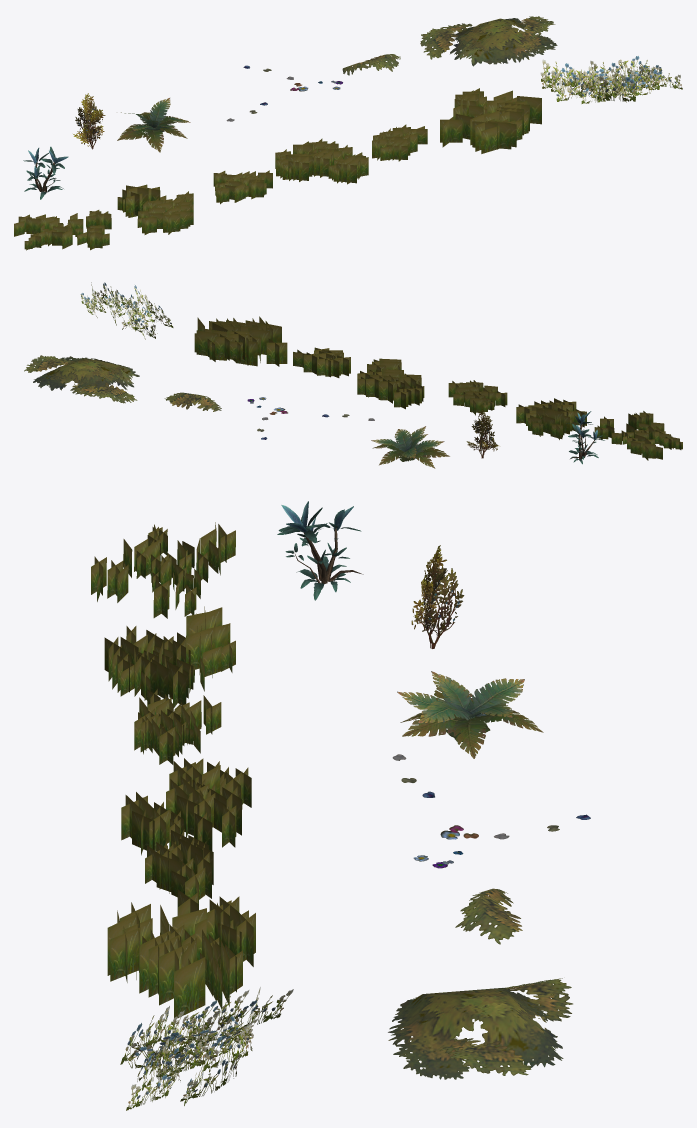
File: d_1156_flower02.FBX
3 renders of one model, top to bottom at view 1: azimuth 30°, elevation 25°; view 2: azimuth 150°, elevation 25°; view 3: azimuth 270°, elevation 25°, orthographic. The views are drawn at different scales.
Parts seen in each view (by area): view 1: YGCL_caocong_08, XJLD_zw_guanmu_010, d_111301_tree16, YGCL_caocong_05, YGCL_caocong_009, YGCL_caocong_01, SLXB_guanmu_002, YGCL_caocong_03, YGCL_caocong_07, YGCL_grass_007, MWCL_wj_guanmu_002, XJLD_zw_guanmu_009; view 2: YGCL_caocong_08, XJLD_zw_guanmu_010, YGCL_caocong_05, YGCL_caocong_009, YGCL_caocong_01, d_111301_tree16, SLXB_guanmu_002, YGCL_caocong_03, YGCL_caocong_07, YGCL_grass_007, MWCL_wj_guanmu_002, XJLD_zw_guanmu_009; view 3: XJLD_zw_guanmu_010, YGCL_caocong_08, YGCL_caocong_01, d_111301_tree16, YGCL_caocong_05, YGCL_caocong_009, SLXB_guanmu_002, YGCL_caocong_03, YGCL_caocong_07, MWCL_wj_guanmu_002, YGCL_grass_007, XJLD_zw_guanmu_009 (+1 smaller).
Part boxes in pixels (x1=…): YGCL_caocong_08: x1=440, y1=88, x2=541, y2=153; XJLD_zw_guanmu_010: x1=420, y1=16, x2=557, y2=66; d_111301_tree16: x1=540, y1=56, x2=682, y2=103; YGCL_caocong_05: x1=275, y1=138, x2=368, y2=184; YGCL_caocong_009: x1=14, y1=210, x2=111, y2=250; YGCL_caocong_01: x1=117, y1=184, x2=193, y2=234; SLXB_guanmu_002: x1=117, y1=98, x2=190, y2=152; YGCL_caocong_03: x1=213, y1=170, x2=272, y2=204; YGCL_caocong_07: x1=372, y1=124, x2=427, y2=161; YGCL_grass_007: x1=73, y1=93, x2=105, y2=149; MWCL_wj_guanmu_002: x1=23, y1=146, x2=68, y2=199; XJLD_zw_guanmu_009: x1=342, y1=54, x2=400, y2=75; YGCL_caocong_08: x1=194, y1=316, x2=287, y2=366; XJLD_zw_guanmu_010: x1=24, y1=355, x2=139, y2=403; YGCL_caocong_05: x1=357, y1=358, x2=424, y2=409; YGCL_caocong_009: x1=594, y1=411, x2=682, y2=460; YGCL_caocong_01: x1=516, y1=398, x2=586, y2=439; d_111301_tree16: x1=80, y1=282, x2=173, y2=339; SLXB_guanmu_002: x1=371, y1=426, x2=449, y2=468; YGCL_caocong_03: x1=448, y1=380, x2=507, y2=415; YGCL_caocong_07: x1=293, y1=347, x2=350, y2=377; YGCL_grass_007: x1=466, y1=409, x2=498, y2=458; MWCL_wj_guanmu_002: x1=566, y1=411, x2=604, y2=464; XJLD_zw_guanmu_009: x1=164, y1=392, x2=221, y2=411; XJLD_zw_guanmu_010: x1=388, y1=978, x2=572, y2=1079; YGCL_caocong_08: x1=107, y1=889, x2=255, y2=1017; YGCL_caocong_01: x1=104, y1=606, x2=235, y2=707; d_111301_tree16: x1=120, y1=987, x2=293, y2=1110; YGCL_caocong_05: x1=121, y1=758, x2=251, y2=855; YGCL_caocong_009: x1=91, y1=522, x2=235, y2=618; SLXB_guanmu_002: x1=397, y1=671, x2=543, y2=758; YGCL_caocong_03: x1=134, y1=689, x2=221, y2=764; YGCL_caocong_07: x1=145, y1=829, x2=213, y2=909; MWCL_wj_guanmu_002: x1=277, y1=501, x2=363, y2=600; YGCL_grass_007: x1=411, y1=545, x2=464, y2=648; XJLD_zw_guanmu_009: x1=455, y1=888, x2=522, y2=944.
Size of the model in its own units: 3244 by 358 by 1212.
